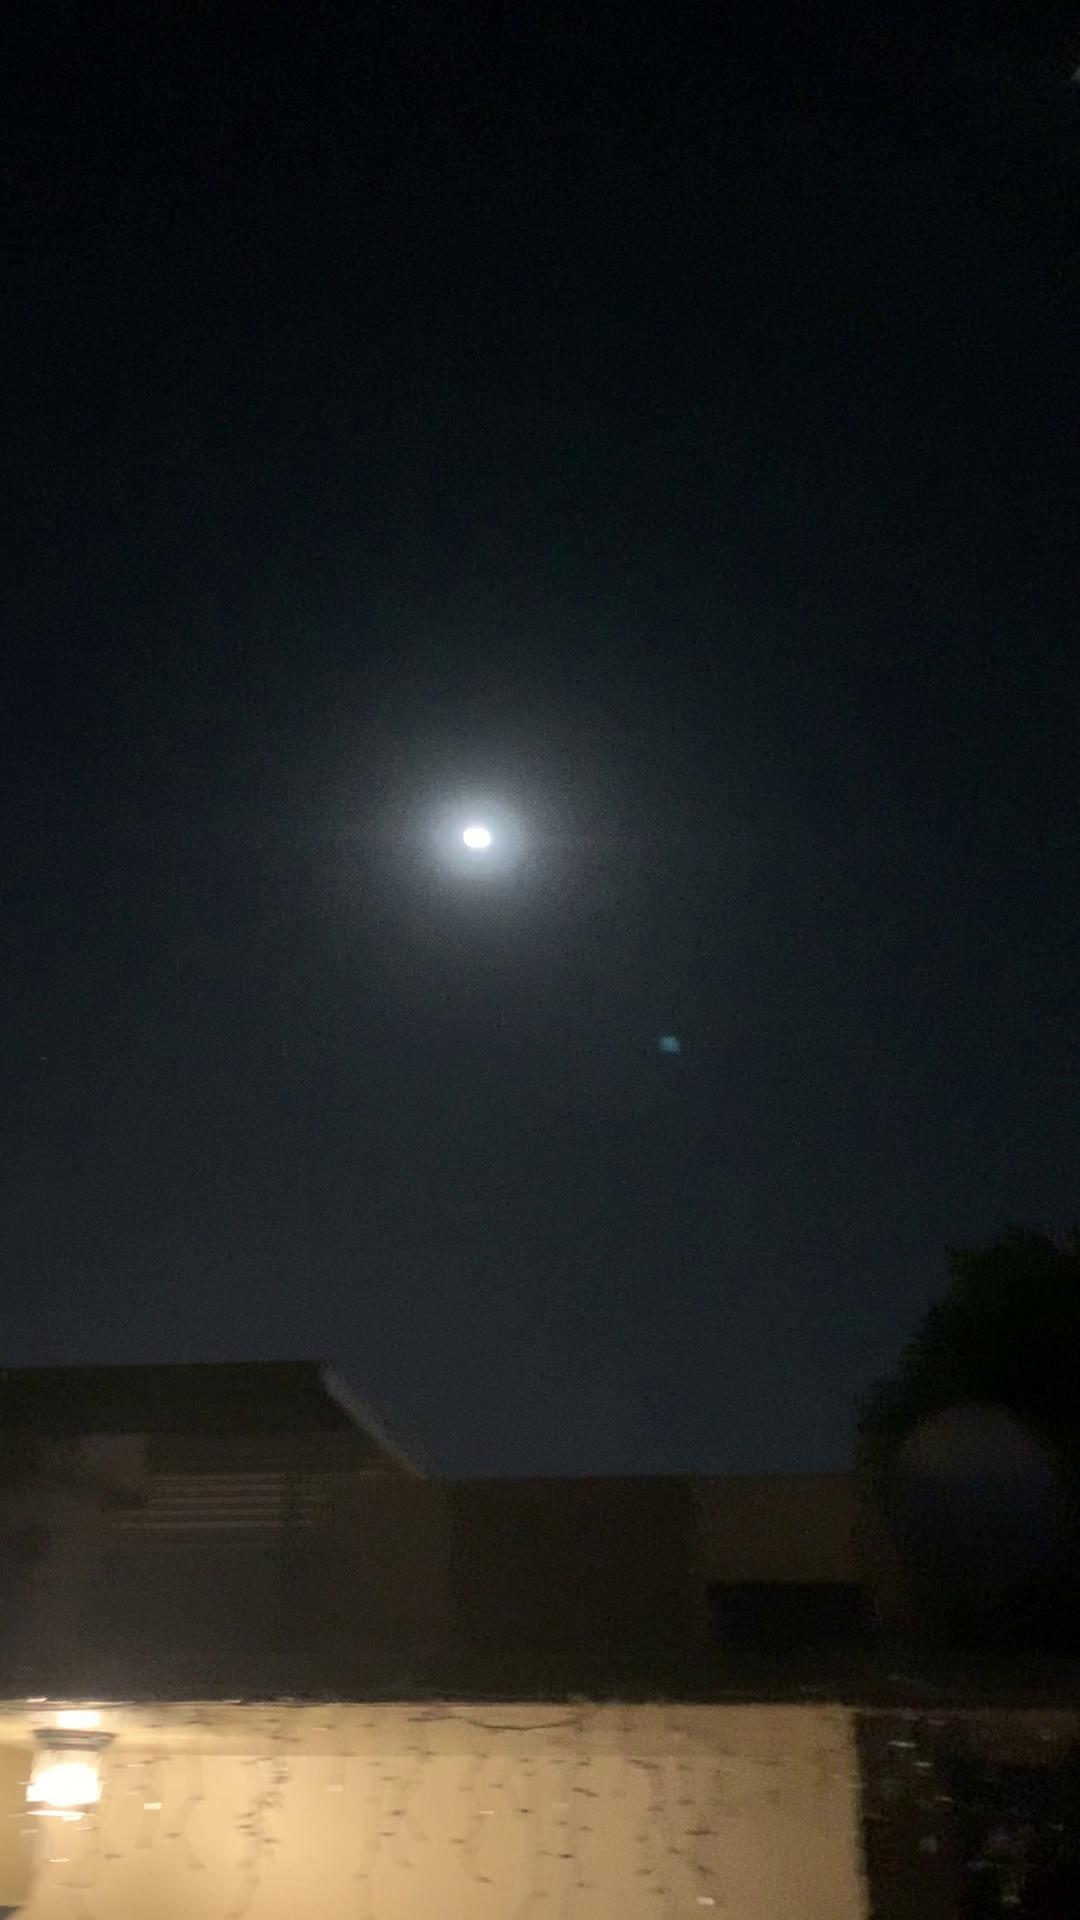moon: (435, 799, 522, 877)
